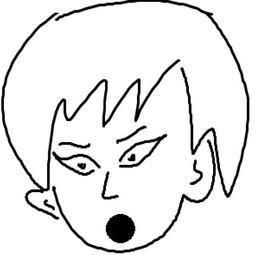ear: (18, 183, 64, 220)
eye: (119, 135, 165, 168), (51, 151, 100, 177)
eyebrow: (60, 132, 92, 150)
frowning_eyebrow: (111, 122, 151, 145)
large_ear: (179, 130, 220, 205)
open_mouth: (103, 209, 142, 246)
pointy_nose: (96, 171, 126, 201)
